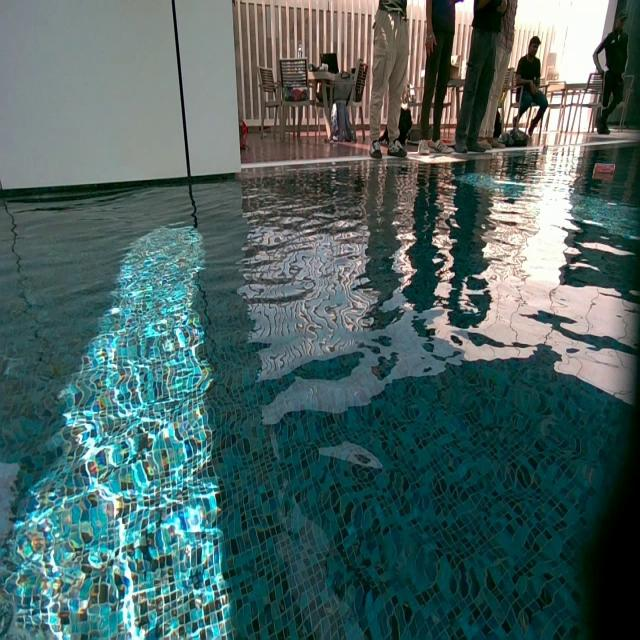Cans: (594, 163, 616, 179)
